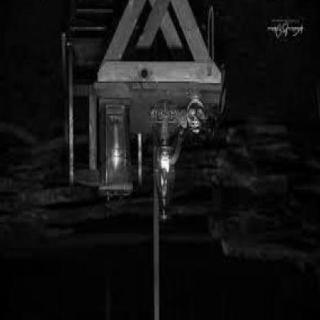Fire: (156, 154, 176, 184), (110, 144, 126, 178)
